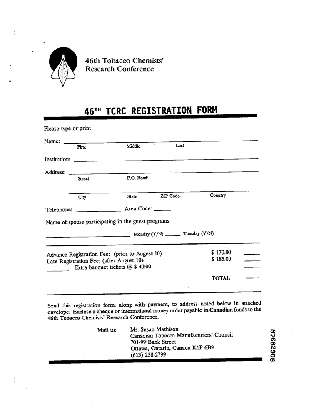textline: (68, 166, 258, 176), (62, 135, 258, 144), (68, 185, 258, 194), (73, 154, 258, 162), (45, 229, 130, 238), (75, 204, 121, 213), (46, 265, 69, 272), (153, 205, 171, 212), (163, 230, 181, 237), (243, 248, 260, 255), (243, 255, 260, 262), (243, 261, 260, 268), (214, 230, 231, 236), (245, 273, 260, 279)
